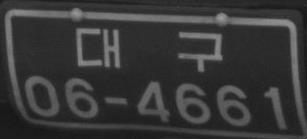0: (22, 74, 61, 117)
1: (258, 85, 292, 130)
4: (136, 80, 170, 121)
6: (215, 83, 252, 128), (174, 80, 211, 124), (64, 77, 99, 119)
대구_D: (75, 26, 224, 72)
